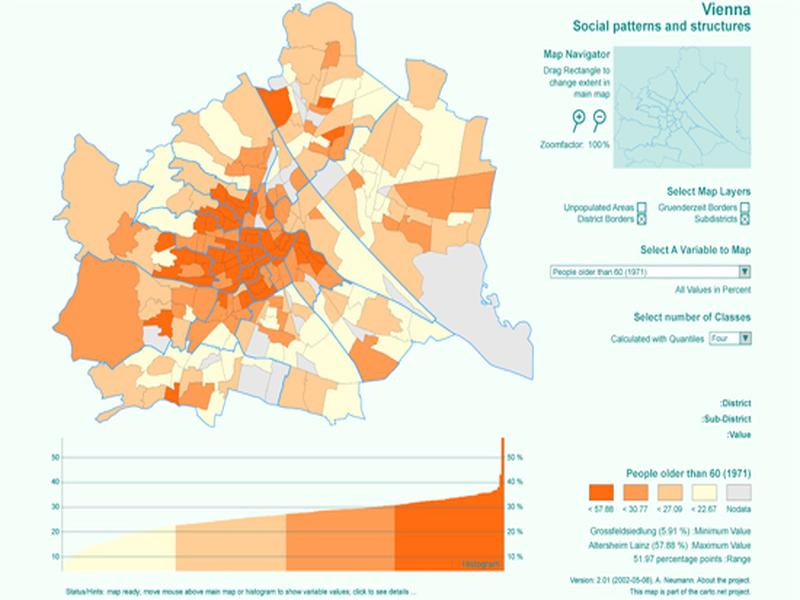legend: (578, 464, 755, 515)
